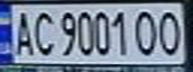0: (93, 8, 112, 56), (75, 8, 93, 57)
1: (109, 7, 133, 56)
9: (54, 7, 78, 57)
A: (9, 7, 36, 57)
C: (30, 7, 57, 57)
O: (154, 7, 187, 57), (133, 7, 163, 56)
